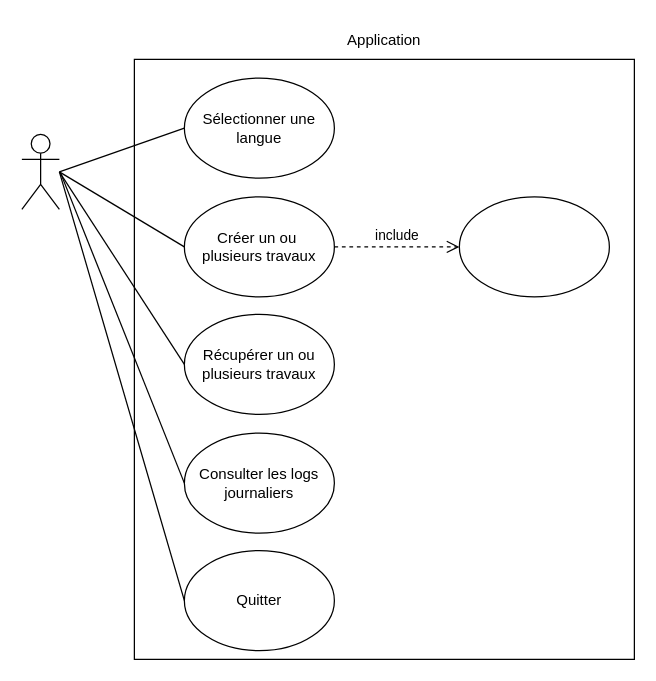
This 656x681 diagram has some shape labels left out. Each missing label, with the centre of its shape:
"Actor" belongs at [40,171].
"Exécuter un ou plusieurs travaux" belongs at [533,246].
